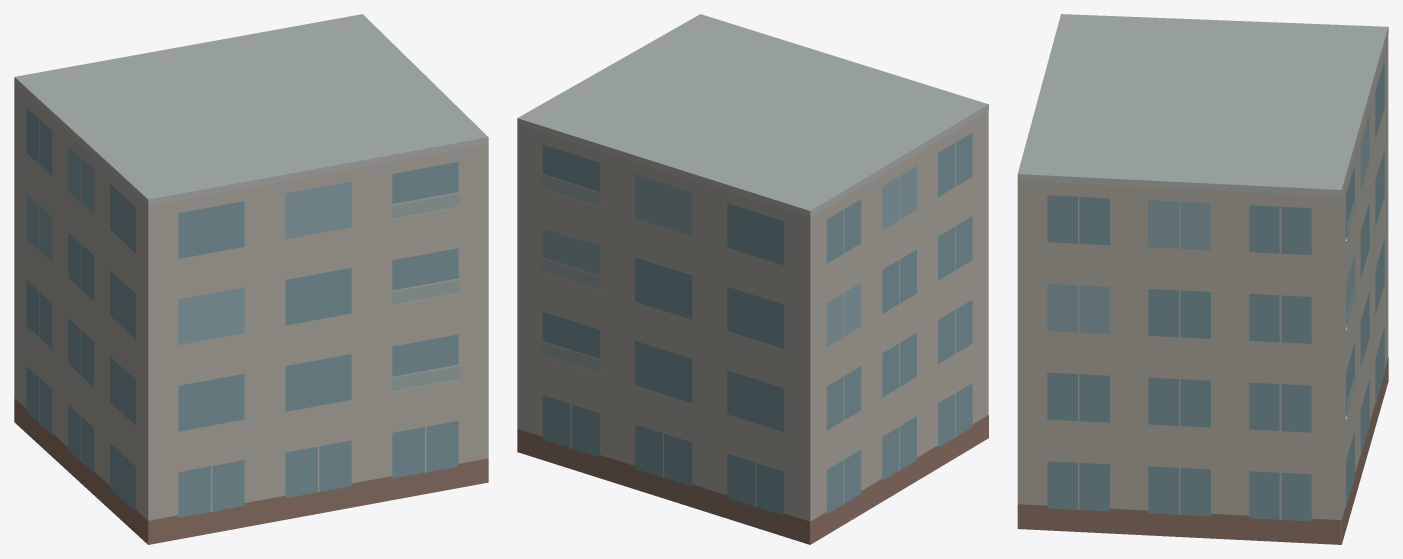
The model's file is survey-upis-32822060.glb.
3 renders of one model, left to right at view 1: azimuth 30°, elevation 25°; view 2: azimuth 150°, elevation 25°; view 3: azimuth 270°, elevation 25°, orthographic. The views are drawn at different scales.
Parts seen in each view (by area): view 1: survey-upis-32822060.tmp; view 2: survey-upis-32822060.tmp; view 3: survey-upis-32822060.tmp.
Boxes of the visible parts, x1=… form: survey-upis-32822060.tmp: x1=14, y1=14, x2=488, y2=544; survey-upis-32822060.tmp: x1=517, y1=14, x2=988, y2=544; survey-upis-32822060.tmp: x1=1017, y1=14, x2=1388, y2=544.
Size of the model in its own units: 13.63 by 12.8 by 12.13.
